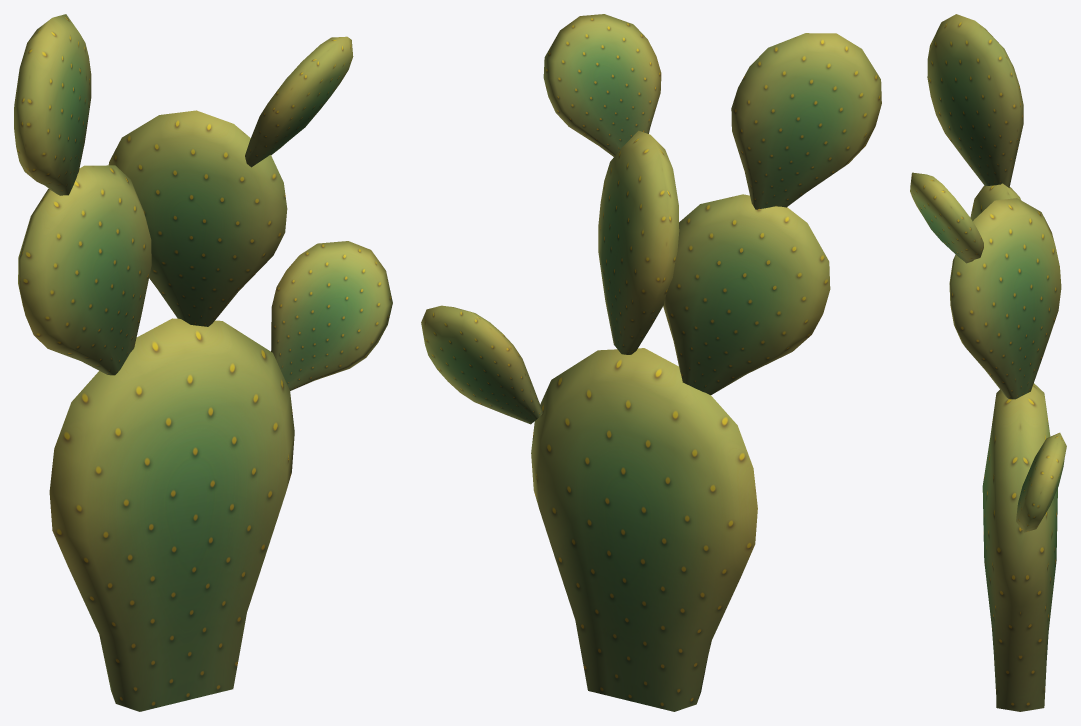
The model's file is Ctn_flatCactus_01_v03.FBX.
The picture shows the model from 3 angles, left to right: view 1: azimuth 30°, elevation 25°; view 2: azimuth 150°, elevation 25°; view 3: azimuth 270°, elevation 25°; orthographic projection. The views are drawn at different scales.
Parts seen in each view (by area): view 1: Ctn_flatCactus_01_v03; view 2: Ctn_flatCactus_01_v03; view 3: Ctn_flatCactus_01_v03.
Boxes of the visible parts, x1,y1,x2,y2 form: Ctn_flatCactus_01_v03: [14, 14, 392, 711]; Ctn_flatCactus_01_v03: [421, 14, 881, 711]; Ctn_flatCactus_01_v03: [910, 14, 1066, 711].
Bounding box in the file's own units: 69.72 × 112 × 26.27.
